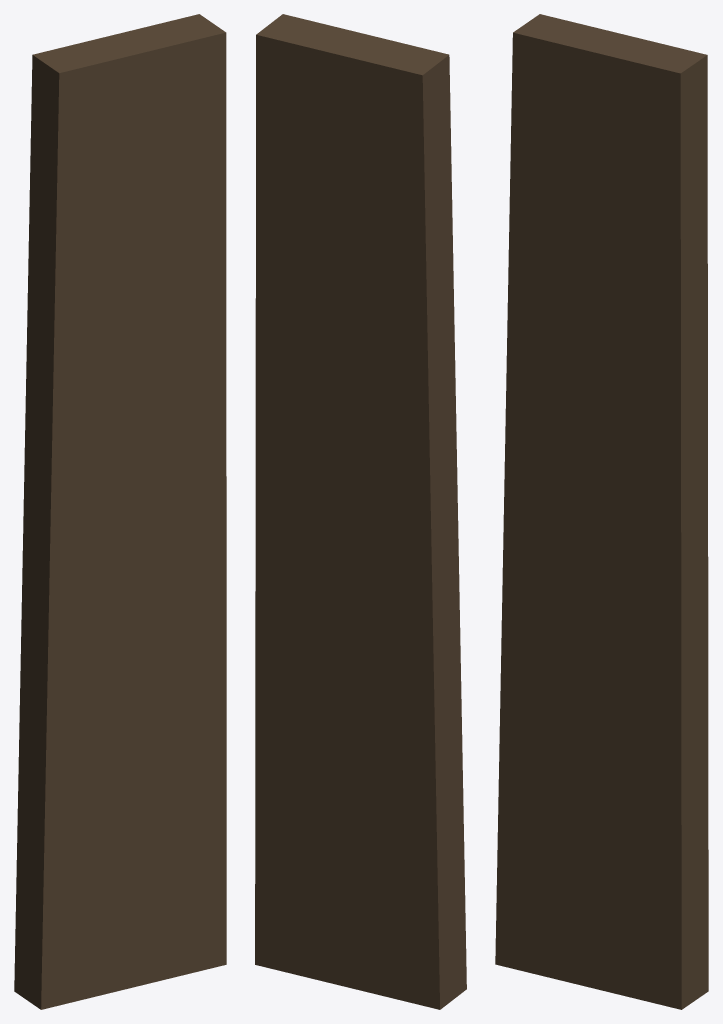
File: EA03_Prop_Village_Plank_01c.glb
3 views of the same model, side by side, from view 1: azimuth 30°, elevation 25°; view 2: azimuth 150°, elevation 25°; view 3: azimuth 330°, elevation 25° (orthographic).
Parts seen in each view (by area): view 1: EA03_Prop_Village_Plank_01c; view 2: EA03_Prop_Village_Plank_01c; view 3: EA03_Prop_Village_Plank_01c.
Boxes of the visible parts, bbox=[...] form: EA03_Prop_Village_Plank_01c: bbox=[14, 14, 226, 1009]; EA03_Prop_Village_Plank_01c: bbox=[255, 14, 466, 1009]; EA03_Prop_Village_Plank_01c: bbox=[495, 14, 708, 1009].
Bounding box in the file's own units: 0.2677 × 1.29 × 0.0679.
1 material, 1 textured.
